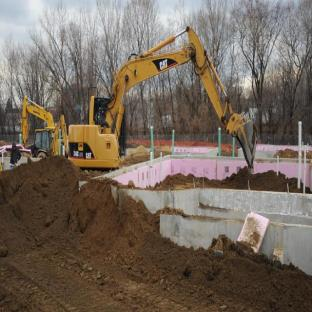ExcavationMachinery: (12, 21, 267, 179)
